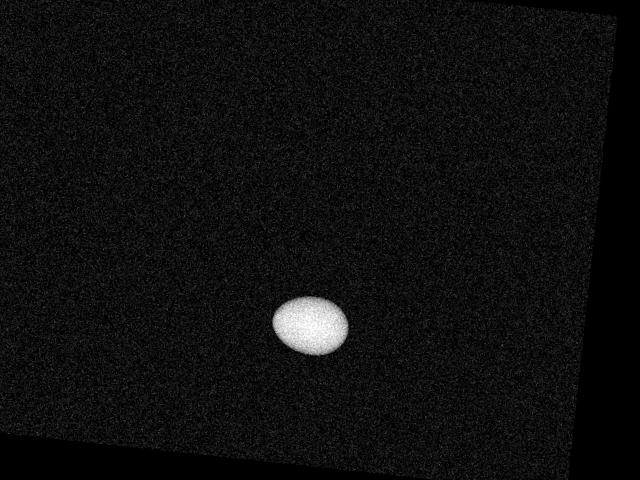egg: (270, 291, 351, 358)
